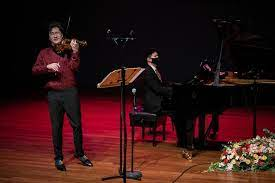Piano: (146, 63, 275, 134)
Violin: (38, 21, 97, 66)
